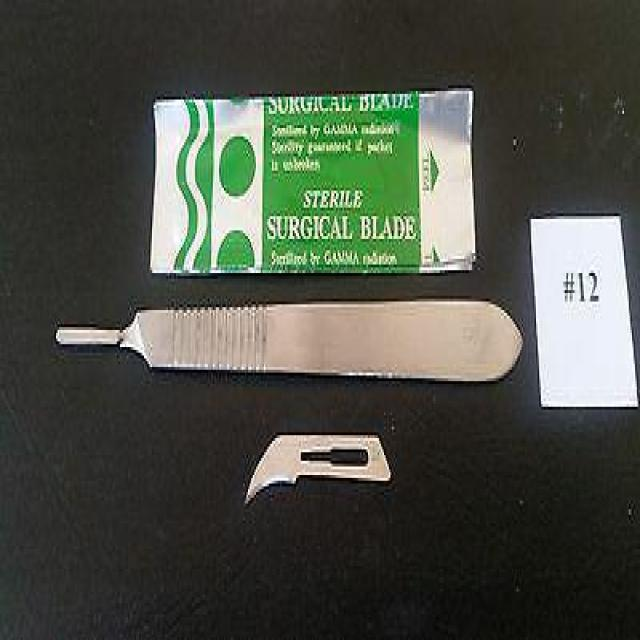Scalpel: (54, 293, 528, 390), (242, 424, 396, 512)
